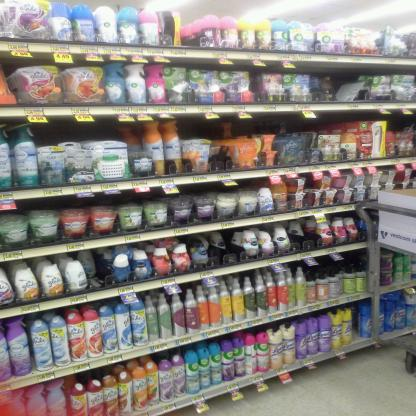Void: (46, 122, 115, 138), (180, 118, 221, 138), (291, 113, 326, 131), (336, 109, 384, 121), (182, 12, 199, 42), (240, 119, 276, 133), (390, 110, 405, 128)
